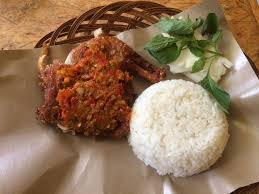ayam_geprek: (33, 38, 151, 138)
